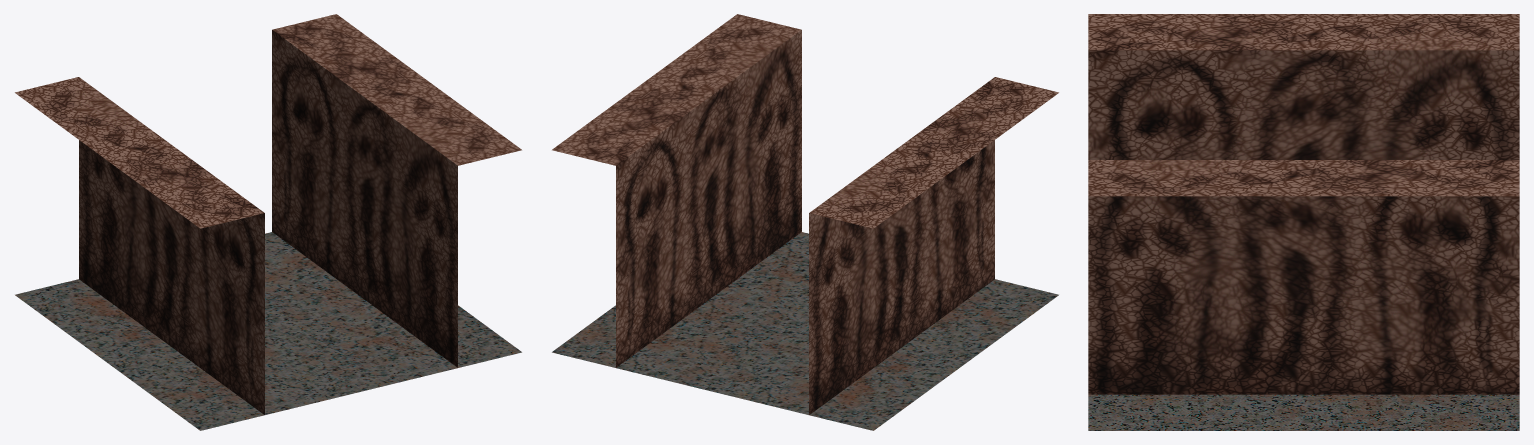
File: Corridor_NoFace.fbx
The picture shows the model from 3 angles, left to right: view 1: azimuth 30°, elevation 25°; view 2: azimuth 150°, elevation 25°; view 3: azimuth 270°, elevation 25°; orthographic projection. The views are drawn at different scales.
Visible parts, largest first — view 1: Corridor_NoFace; view 2: Corridor_NoFace; view 3: Corridor_NoFace.
Part boxes in pixels (bbox=[...]): Corridor_NoFace: bbox=[15, 14, 521, 430]; Corridor_NoFace: bbox=[552, 14, 1058, 430]; Corridor_NoFace: bbox=[1088, 14, 1519, 430].
Bounding box in the file's own units: 100 × 60 × 100.
Materials: 1 (1 with a texture image).
